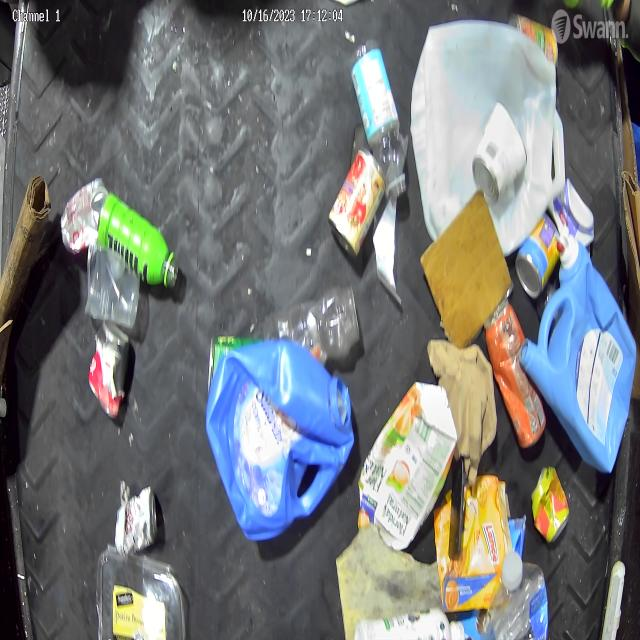can: (332, 144, 388, 258), (478, 100, 525, 201), (89, 319, 125, 423), (530, 460, 568, 550), (63, 178, 97, 256), (115, 491, 157, 549), (523, 214, 555, 287)
milk_jug: (412, 27, 565, 234)
non_white_jug: (208, 332, 356, 538), (533, 227, 634, 451)
plastic_bottle: (346, 38, 410, 200)
